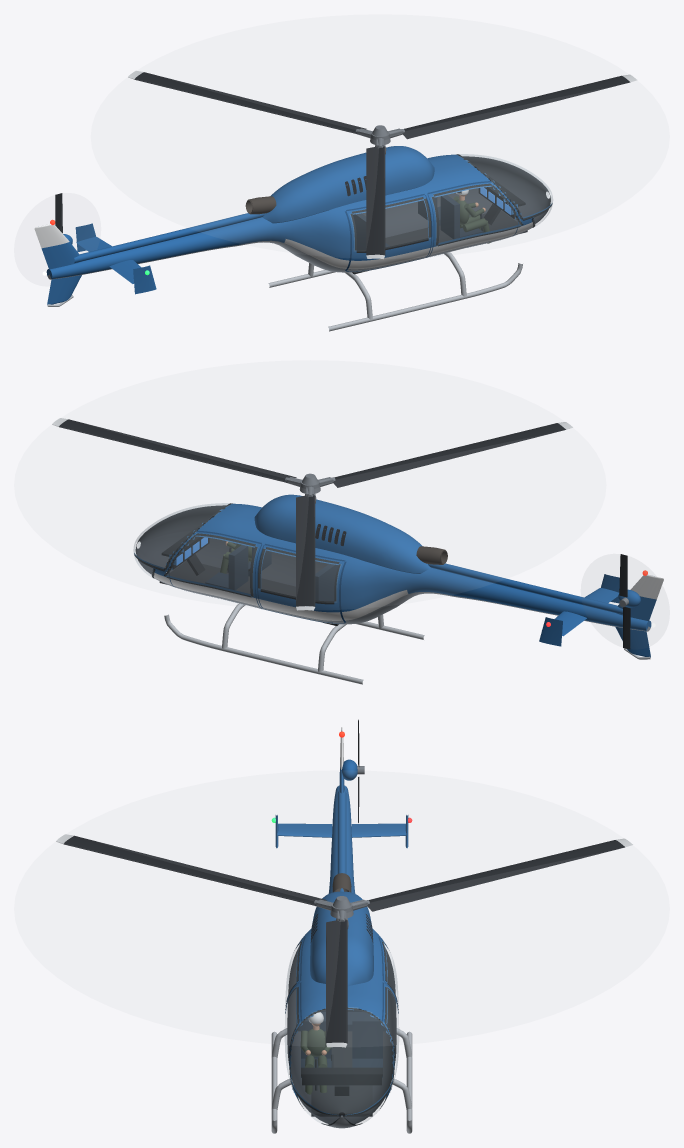
File: bheli.glb
3 renders of one model, top to bottom at view 1: azimuth 30°, elevation 25°; view 2: azimuth 150°, elevation 25°; view 3: azimuth 270°, elevation 25°, orthographic. The views are drawn at different scales.
Visible parts, largest first — view 1: fuselage, cabin_glass, mr_blades, cowling, cabin_lining, driveshaft_fairing, cabin_seats, window_frames, fin_upper, skid_r, cabin_floor, pilot_suit (+6 smaller); view 2: fuselage, cabin_glass, mr_blades, cowling, cabin_lining, cabin_seats, driveshaft_fairing, window_frames, cabin_floor, skid_l, fin_upper, instrument_panel (+6 smaller); view 3: cabin_glass, mr_blades, fuselage, cowling, cabin_lining, cabin_seats, cabin_floor, instrument_panel, window_frames, pilot_suit, driveshaft_fairing, stabiliser_r (+2 smaller).
Boxes of the visible parts, x1,y1,x2,y2 form: fuselage: (46, 154, 552, 279); cabin_glass: (350, 154, 552, 250); mr_blades: (134, 72, 630, 255); cowling: (262, 146, 434, 223); cabin_lining: (362, 156, 550, 237); driveshaft_fairing: (74, 213, 265, 262); cabin_seats: (353, 195, 482, 250); window_frames: (350, 154, 552, 252); fin_upper: (34, 224, 80, 269); skid_r: (328, 263, 522, 331); cabin_floor: (352, 210, 527, 274); pilot_suit: (453, 196, 490, 243); fuselage: (134, 503, 651, 631); cabin_glass: (133, 503, 340, 602); mr_blades: (59, 419, 565, 606); cowling: (254, 494, 430, 573); cabin_lining: (135, 505, 328, 586); cabin_seats: (205, 545, 338, 601); driveshaft_fairing: (428, 563, 622, 614); window_frames: (134, 503, 340, 604); cabin_floor: (159, 561, 338, 625); skid_l: (164, 614, 363, 684); fin_upper: (617, 574, 663, 621); instrument_panel: (161, 526, 209, 575); cabin_glass: (285, 942, 398, 1124); mr_blades: (64, 835, 624, 1043); fuselage: (285, 785, 398, 1128); cowling: (310, 891, 373, 986); cabin_lining: (287, 947, 396, 1124); cabin_seats: (296, 969, 387, 1077); cabin_floor: (311, 1031, 372, 1116); instrument_panel: (301, 1067, 382, 1095); window_frames: (285, 941, 398, 1125); pilot_suit: (300, 1028, 331, 1094); driveshaft_fairing: (337, 790, 346, 891); stabiliser_r: (277, 823, 332, 837).
Size of the model in its own units: 12.99 by 3.42 by 10.69.
